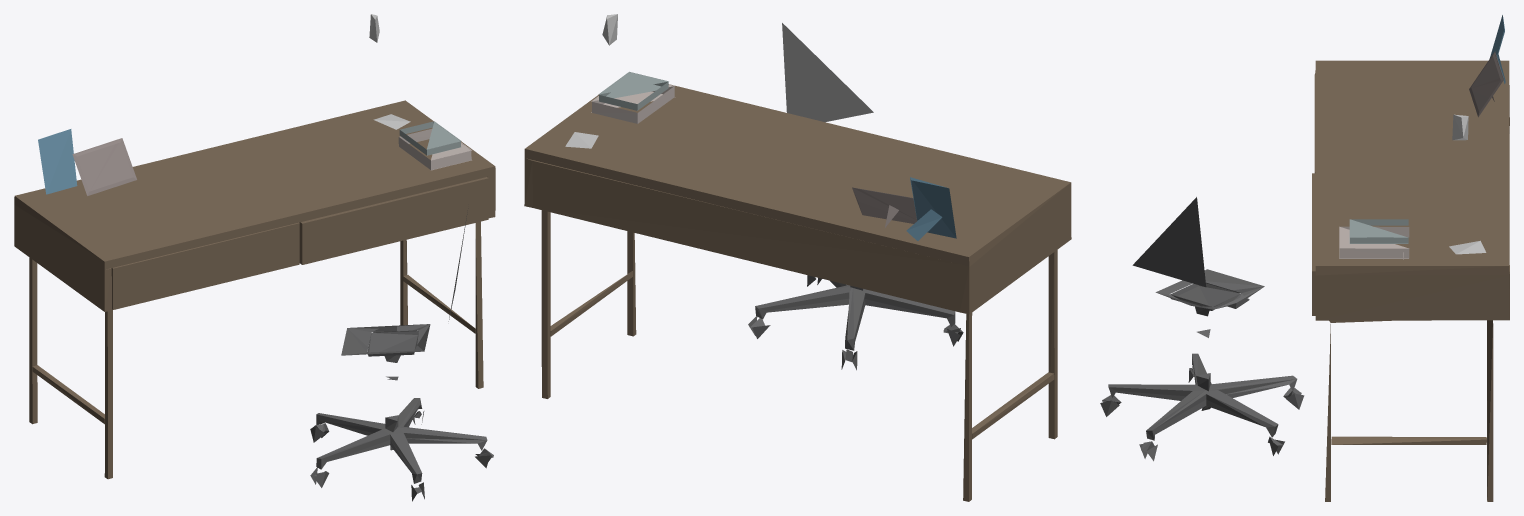
Rendered from desk-set.lod1.glb.
3 views of the same model, side by side, from view 1: azimuth 30°, elevation 25°; view 2: azimuth 150°, elevation 25°; view 3: azimuth 270°, elevation 25° (orthographic). The views are drawn at different scales.
Parts seen in each view (by area): view 1: Desk_Desk_0; view 2: Desk_Desk_0; view 3: Desk_Desk_0.
Boxes of the visible parts, x1,y1,x2,y2 form: Desk_Desk_0: [14, 14, 495, 501]; Desk_Desk_0: [524, 14, 1071, 501]; Desk_Desk_0: [1100, 15, 1509, 501].
Size of the model in its own units: 2 by 1.64 by 1.68.
